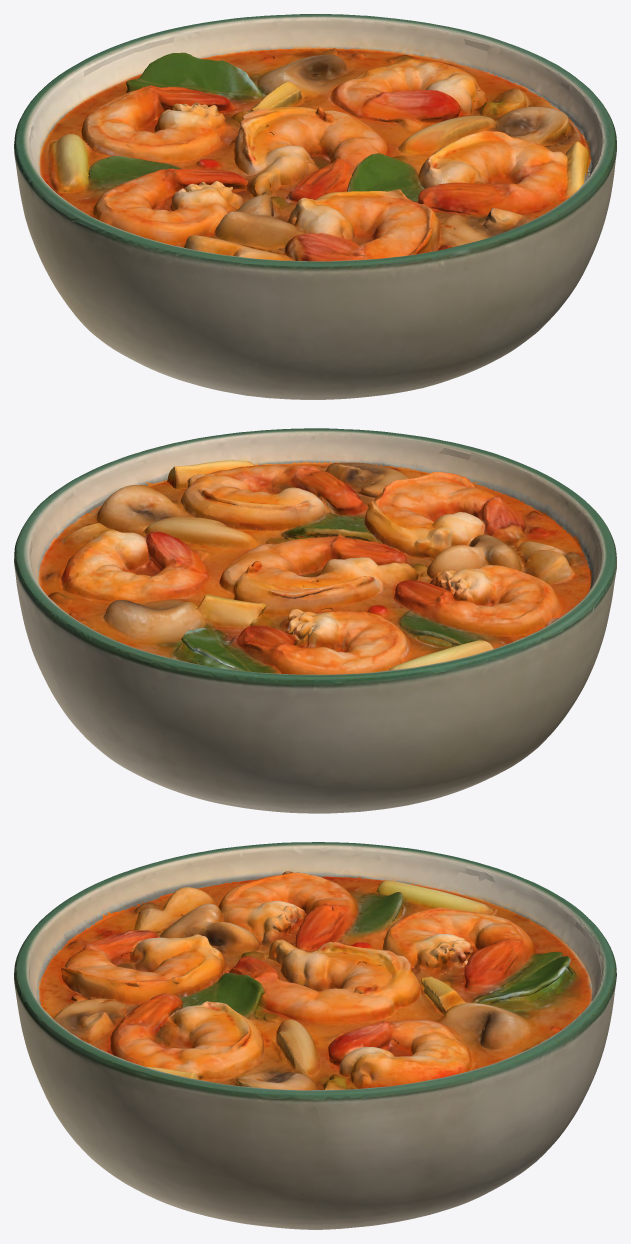
Rendered from tom-yum-0.glb.
The picture shows the model from 3 angles, top to bottom: view 1: azimuth 30°, elevation 25°; view 2: azimuth 150°, elevation 25°; view 3: azimuth 270°, elevation 25°; orthographic projection.
Parts seen in each view (by area): view 1: canonical/sourceCeramic, food/independent-stage-0; view 2: canonical/sourceCeramic, food/independent-stage-0; view 3: canonical/sourceCeramic, food/independent-stage-0.
Boxes of the visible parts, <box> form: canonical/sourceCeramic: <box>14,14,616,399</box>; food/independent-stage-0: <box>38,45,591,261</box>; canonical/sourceCeramic: <box>14,428,616,813</box>; food/independent-stage-0: <box>37,460,591,674</box>; canonical/sourceCeramic: <box>14,842,616,1229</box>; food/independent-stage-0: <box>38,871,591,1090</box>.
Size of the model in its own units: 2.61 by 0.8397 by 2.6.
3 materials, 2 textured.
